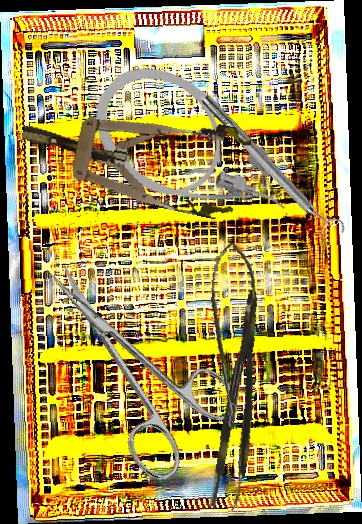Cannula: (70, 42, 311, 267)
Fixation Ring: (194, 86, 349, 249)
Iris Scissors: (11, 229, 253, 489)
Micro Scissor: (193, 240, 263, 429)
Speculum: (13, 84, 254, 224)
Tissue Forceps: (208, 288, 277, 513)
